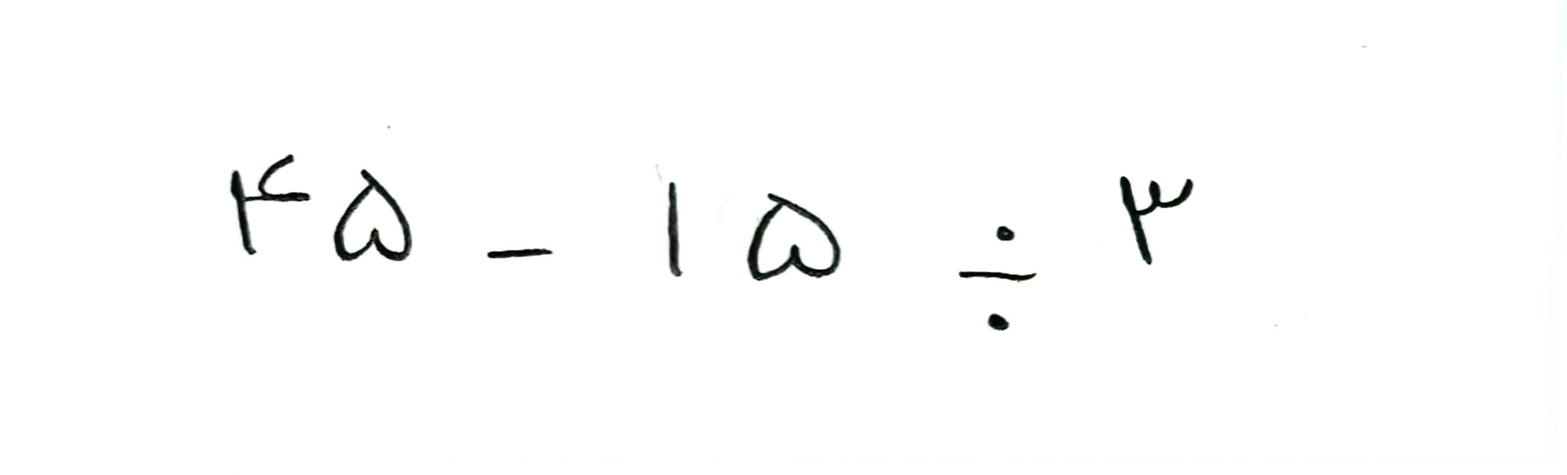character: (229, 152, 311, 256), (747, 192, 840, 283), (959, 226, 1038, 331), (331, 167, 414, 263), (1117, 174, 1194, 266), (666, 181, 683, 278), (487, 248, 552, 259)
